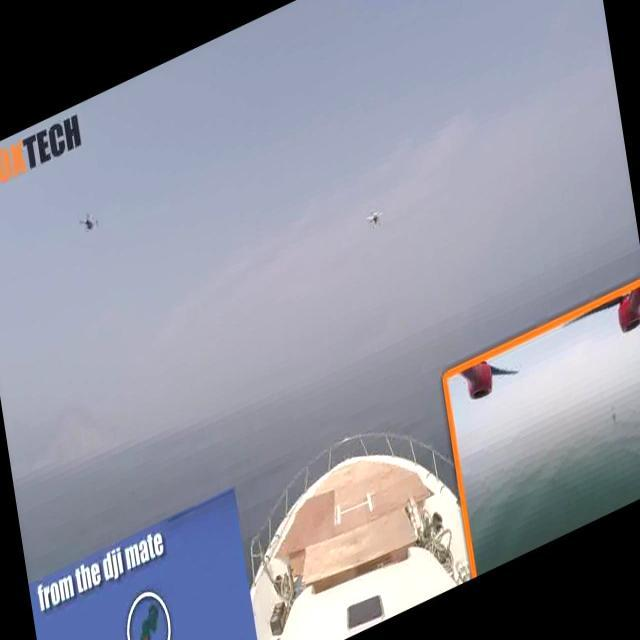drone: (75, 202, 105, 240), (362, 200, 388, 232)
